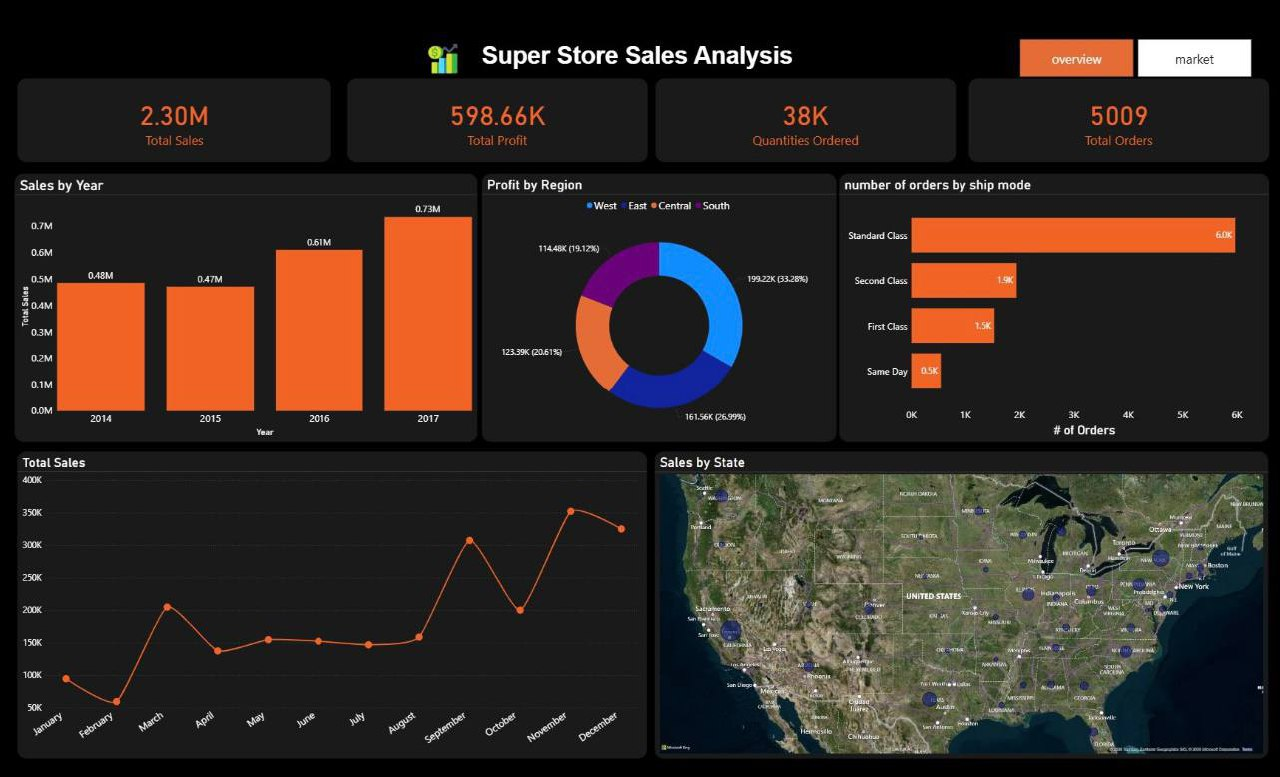

The dashboard page shown, as its layout file describes it:
{"tool":"powerbi","page":{"name":"overview","canvas":[3000,1700],"ordinal":0},"visuals":[{"type":"textbox","box":[1081.9,0,833.9,87.2],"z":0},{"type":"image","box":[956.6,0,163.5,89.9],"z":1000},{"type":"map","title":"Sales by State","fields":{"Category":["Dim customer.State"],"Size":["Sum(Fact sales.Sales)"]},"box":[1531.6,959.3,1430.8,741.3],"z":2000},{"type":"lineChart","title":"Total Sales","fields":{"Category":["Dim Date.Date.Variation.Date Hierarchy.Year","Dim Date.Date.Variation.Date Hierarchy.Quarter","Dim Date.Date.Variation.Date Hierarchy.Month","Dim Date.Date.Variation.Date Hierarchy.Day"],"Y":["Sum(Fact sales.Sales)"]},"box":[46.3,959.3,1468.9,741.3],"z":3000},{"type":"donutChart","title":"Profit by Region","fields":{"Category":["Dim customer.Region"],"Y":["Sum(Fact sales.Profit)"]},"box":[1128.3,310.7,825.8,626.8],"z":4000},{"type":"columnChart","title":"Sales by Year","fields":{"Y":["Sum(Fact sales.Sales)"],"Category":["Dim Date.Date.Variation.Date Hierarchy.Year"]},"box":[40.9,310.7,1079.2,626.8],"z":5000},{"type":"card","fields":{"Values":["Sum(Fact sales.Sales)"]},"box":[79,89.9,700.4,196.2],"z":6000},{"type":"card","fields":{"Values":["Sum(Fact sales.Profit)"]},"box":[814.9,89.9,700.4,196.2],"z":7000},{"type":"card","fields":{"Values":["Sum(Fact sales.Quantity)"]},"box":[1531.6,89.9,700.4,196.2],"z":8000},{"type":"card","fields":{"Values":["Count(Fact sales.Order ID)"]},"box":[2262,89.9,700.4,196.2],"z":9000},{"type":"clusteredBarChart","title":"number of orders by ship mode","fields":{"Category":["Dim ship mode.Ship Mode"],"Y":["CountNonNull(Fact sales.Ship Mode Id)"]},"box":[1959.5,310.7,1002.9,626.8],"z":10000},{"type":"pageNavigator","box":[2381.9,0,539.6,87.2],"z":10001}]}

Visuals, with their boxes on the page's 3000x1700 design canvas (x1, y1, x2, y2). These are canvas units, not pixel positions in the 1280x777 screenshot, which may show the page scaled, cropped or inside an application window:
textbox: (1082, 0, 1916, 87)
image: (957, 0, 1120, 90)
"Sales by State" map: (1532, 959, 2962, 1701)
"Total Sales" lineChart: (46, 959, 1515, 1701)
"Profit by Region" donutChart: (1128, 311, 1954, 938)
"Sales by Year" columnChart: (41, 311, 1120, 938)
card - Sum(Fact sales.Sales): (79, 90, 779, 286)
card - Sum(Fact sales.Profit): (815, 90, 1515, 286)
card - Sum(Fact sales.Quantity): (1532, 90, 2232, 286)
card - Count(Fact sales.Order ID): (2262, 90, 2962, 286)
"number of orders by ship mode" clusteredBarChart: (1960, 311, 2962, 938)
pageNavigator: (2382, 0, 2922, 87)
